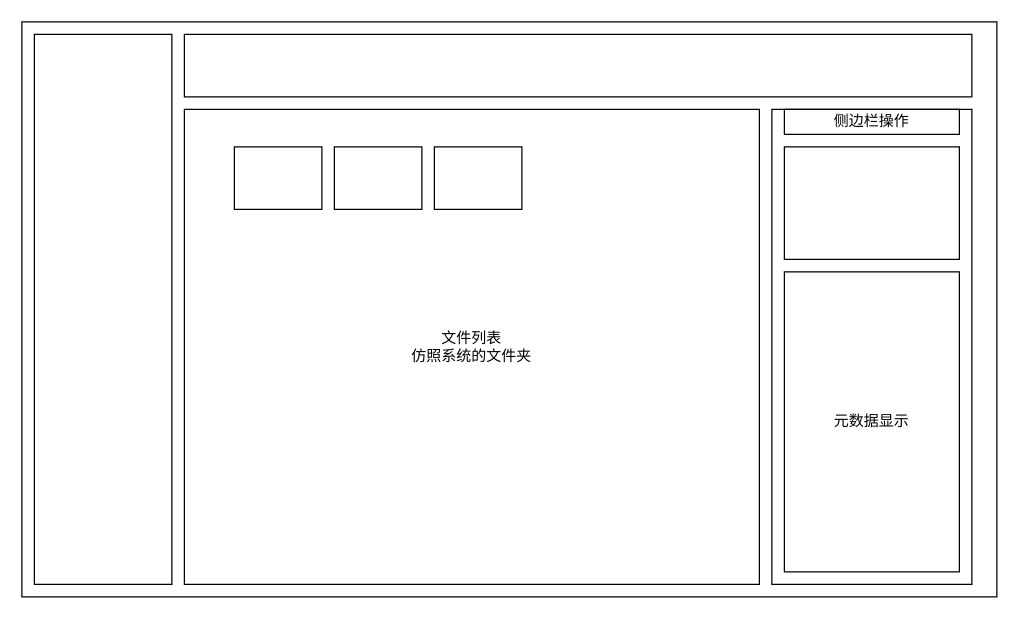
Image size: 1019x619. Some labels were removed from this diagram. The centre of each missing label's shape, as x and y in pixels:
"文件预览" goes at (871,202).
"菜单" goes at (102,308).
